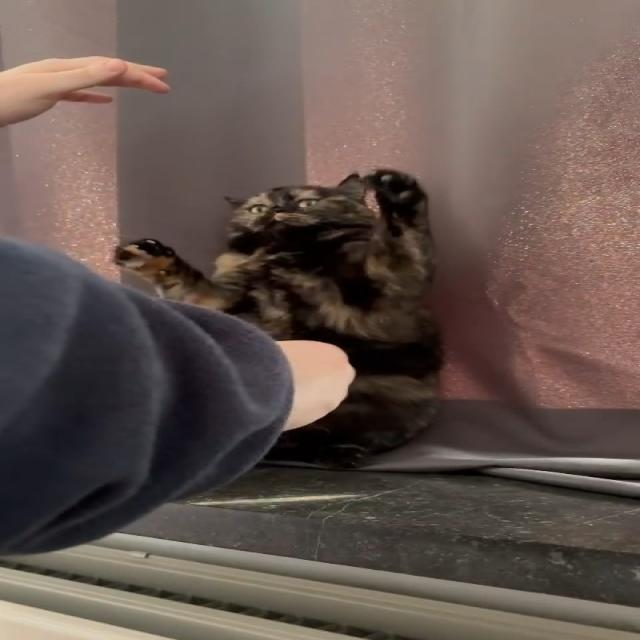authorized: (112, 168, 445, 470), (111, 237, 241, 312)
